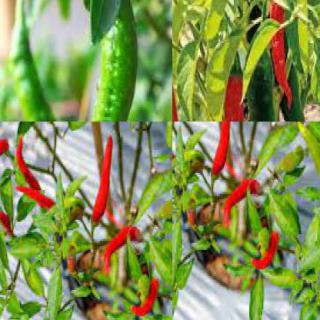green_chilli: (36, 0, 142, 121), (8, 22, 130, 121), (244, 51, 299, 120), (271, 58, 319, 121), (295, 121, 319, 188), (20, 258, 46, 300), (7, 237, 47, 255), (248, 279, 266, 319)
